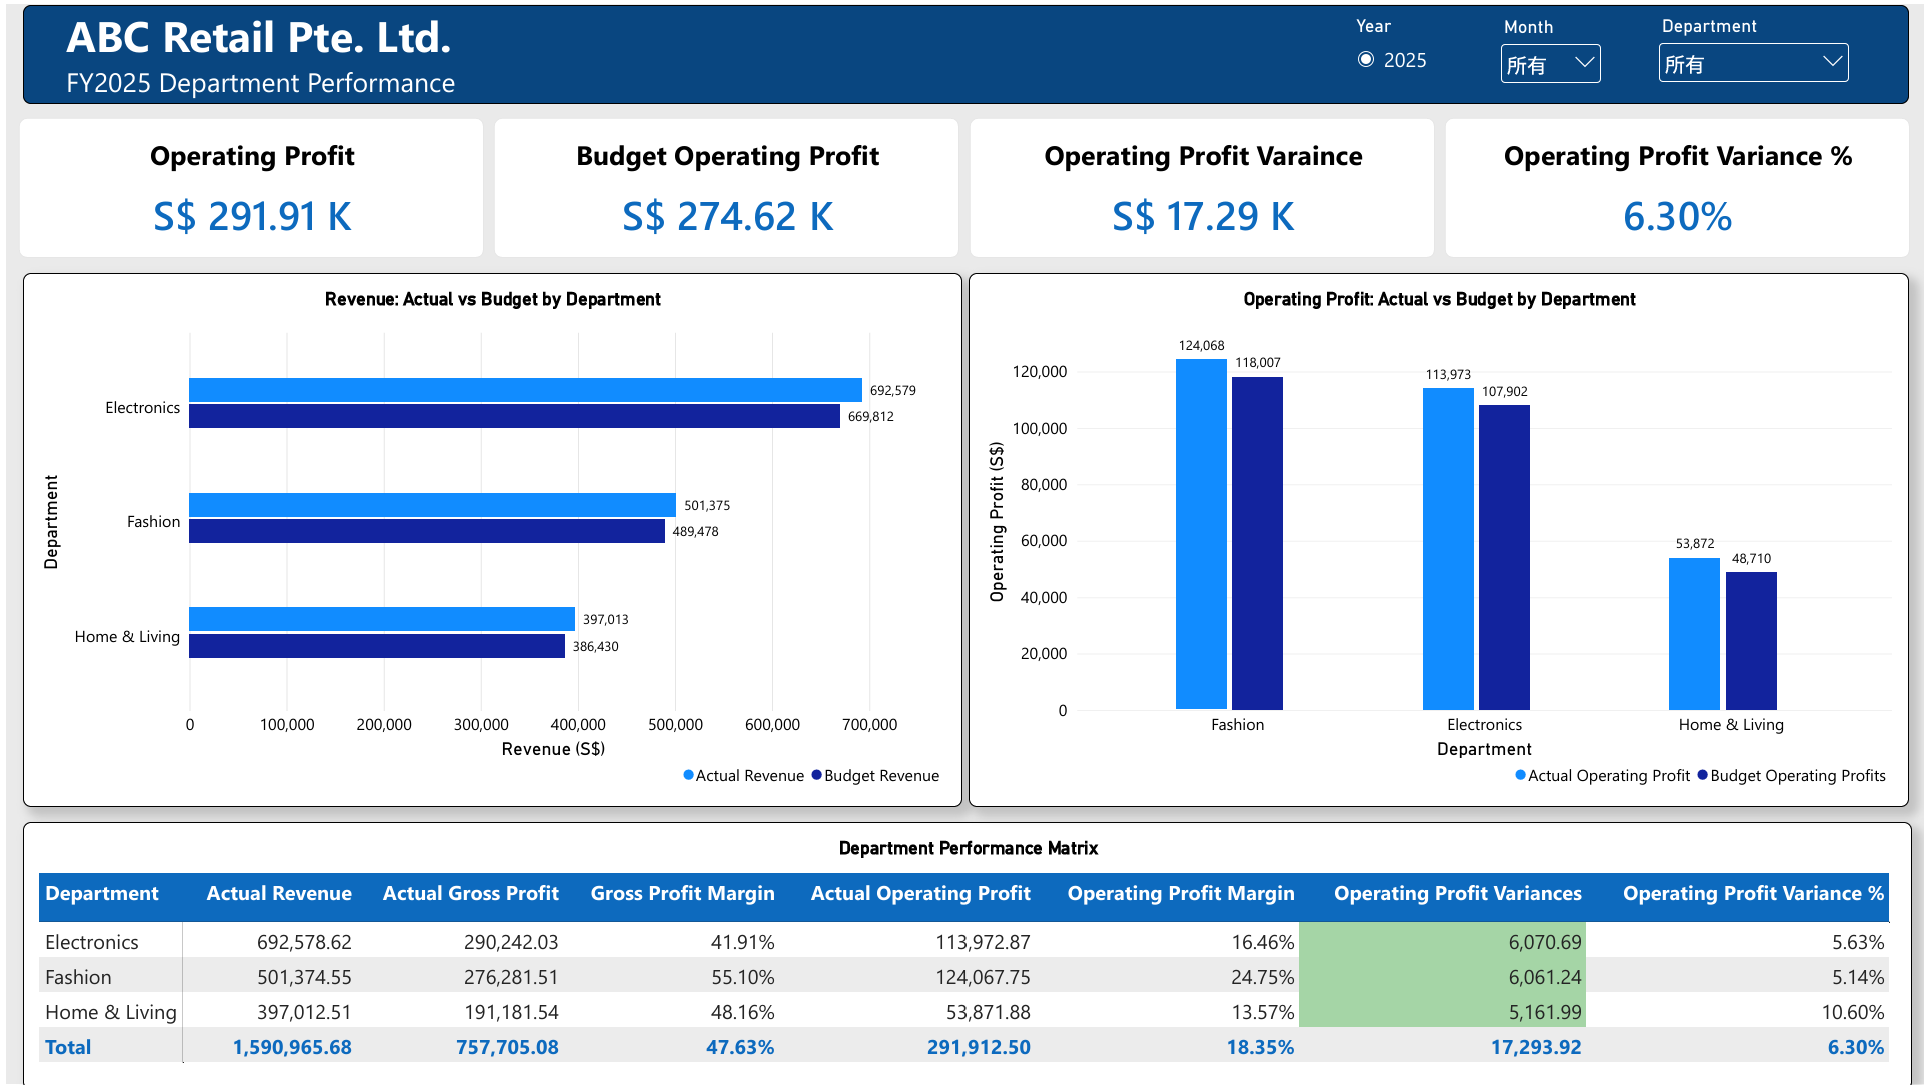

What the dashboard file says about the page in this screenshot:
{"tool":"powerbi","page":{"name":"Department Performance","canvas":[1920,1080],"ordinal":2},"visuals":[{"type":"cardVisual","fields":{"Data":["Fact_Actual.Operating Profit"]},"box":[12.4,113.4,465,140],"z":0},{"type":"textbox","box":[16.5,0,1884.9,99],"z":1000},{"type":"cardVisual","fields":{"Data":["Fact_Budget.Budget Operating Profit"]},"box":[487.4,113.4,465,140],"z":2000},{"type":"cardVisual","fields":{"Data":["Fact_Actual.Operating Profit Varaince"]},"box":[962.4,113.4,465,140],"z":3000},{"type":"cardVisual","fields":{"Data":["Fact_Actual.Operating Profit Variance %"]},"box":[1437.4,113.4,465,140],"z":4000},{"type":"slicer","fields":{"Values":["Dim_Date.Month"]},"box":[1488.1,10.5,110,80],"z":5000},{"type":"slicer","fields":{"Values":["Dim_Date.Year"]},"box":[1340.5,10.3,100,80.4],"z":6000},{"type":"slicer","fields":{"Values":["Dim_Department.Department"]},"box":[1645.6,10.3,200,80.4],"z":7000},{"type":"clusteredBarChart","title":"Revenue: Actual vs Budget by Department","fields":{"Category":["Dim_Department.Department"],"Y":["Fact_Actual.Total Revenue Calculation","Fact_Budget.Budget Revenue"]},"box":[16.5,268.1,938.3,534.1],"z":8000},{"type":"pivotTable","title":"Department Performance Matrix","fields":{"Rows":["Dim_Department.Department"],"Values":["Fact_Actual.Total Revenue Calculation","Fact_Actual.Gross Profit","Fact_Actual.Gross Profit Margin","Fact_Actual.Operating Profit","Fact_Actual.Operating Profit Margin","Fact_Actual.Operating Profit Variance","Fact_Actual.Operating Profit Variance %"]},"box":[16.5,816.7,1887,268.1],"z":9000},{"type":"clusteredColumnChart","title":"Operating Profit: Actual vs Budget by Department","fields":{"Category":["Dim_Department.Department"],"Y":["Fact_Actual.Operating Profit","Fact_Budget.Budget Operating Profit"]},"box":[961,268.1,940.4,534.1],"z":11000}]}

Visuals, with their boxes in screenshot pixels (x1, y1, x2, y2), scaled from the page's 1920x1080 canvas onto the 1924x1086 screenshot:
cardVisual - Fact_Actual.Operating Profit: [12,114,478,255]
textbox: [17,0,1905,100]
cardVisual - Fact_Budget.Budget Operating Profit: [488,114,954,255]
cardVisual - Fact_Actual.Operating Profit Varaince: [964,114,1430,255]
cardVisual - Fact_Actual.Operating Profit Variance %: [1440,114,1906,255]
slicer - Dim_Date.Month: [1491,11,1601,91]
slicer - Dim_Date.Year: [1343,10,1444,91]
slicer - Dim_Department.Department: [1649,10,1849,91]
"Revenue: Actual vs Budget by Department" clusteredBarChart: [17,270,957,807]
"Department Performance Matrix" pivotTable: [17,821,1907,1085]
"Operating Profit: Actual vs Budget by Department" clusteredColumnChart: [963,270,1905,807]
